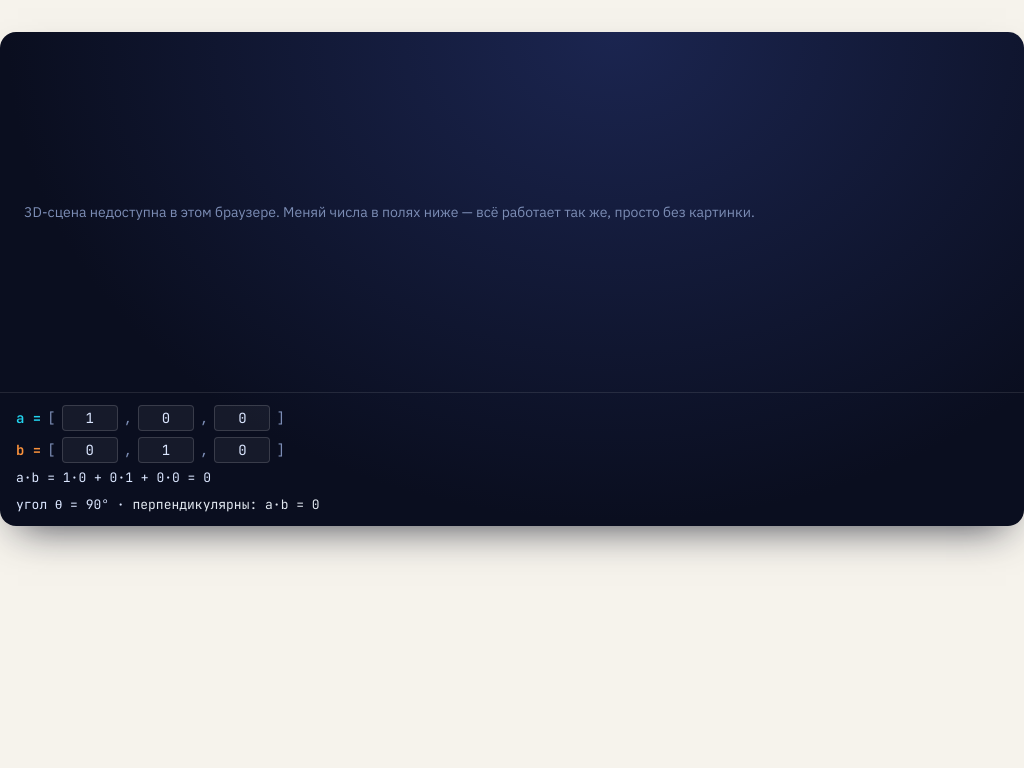
Scenario: DotProduct3D without WebGL › updates the readout when a coordinate changes
Expected: the text "a·b = 1·0 + 0·1 + 0·0 = 0" is shown, [16,469,211,486]
Expected: the text "перпендикулярны: a·b = 0" is shown, [132,496,320,513]
Replace the text in the field named "b, координата x" with "2" at (90, 450), box [62,437,118,463]
Then press Enter
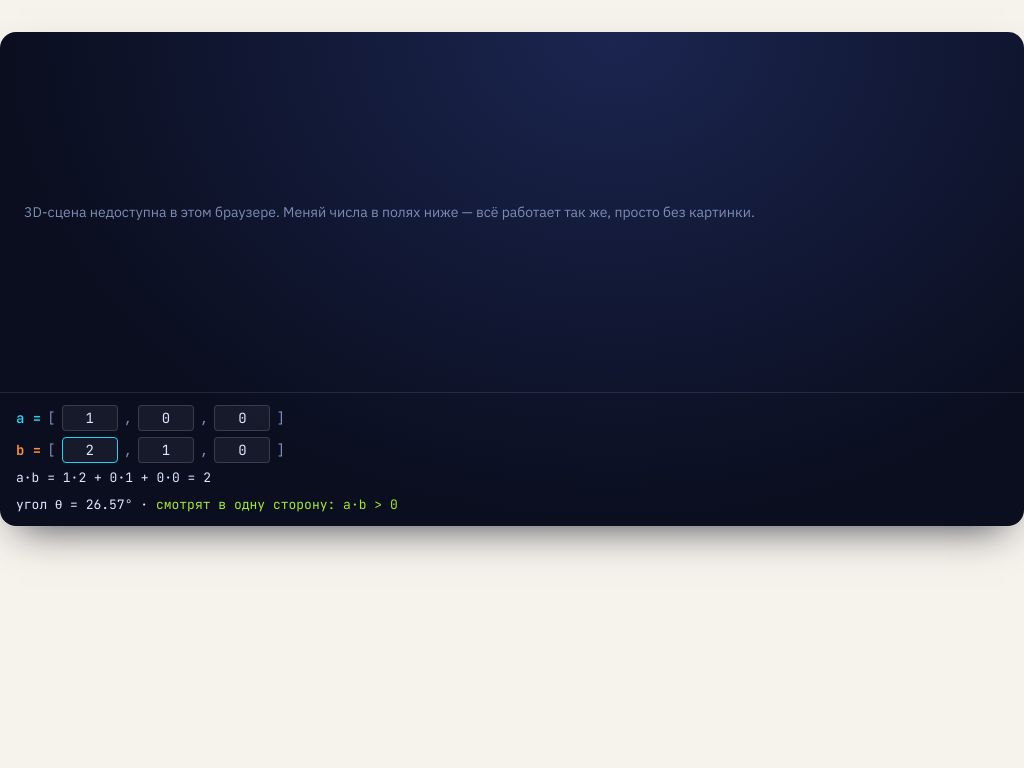
Expected: the text "a·b = 1·2 + 0·1 + 0·0 = 2" is shown, [16,469,211,486]
Expected: the text "смотрят в одну сторону: a·b > 0" is shown, [156,496,398,513]
